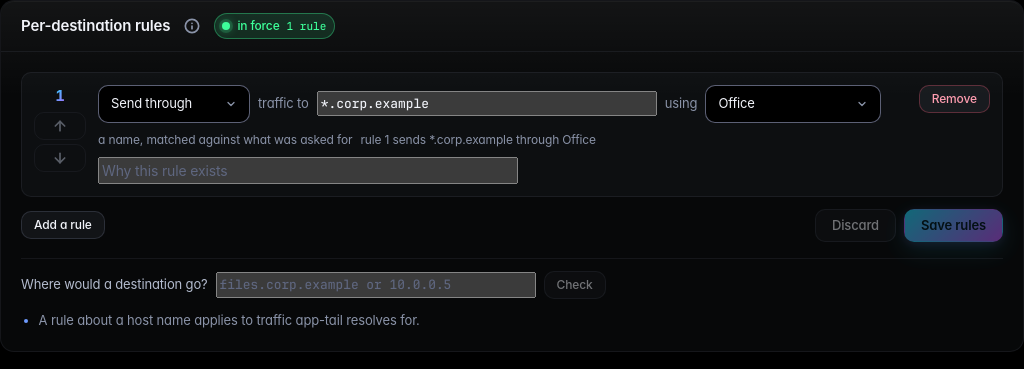
Test: writing the rules › offers nothing to save until a rule is edited
Expected: the button "Save rules" is disabled, [904,208,1003,242]
Type "*.corp.test" into the field named "Rule 1: destination" at (487,104), box [317,91,657,116]
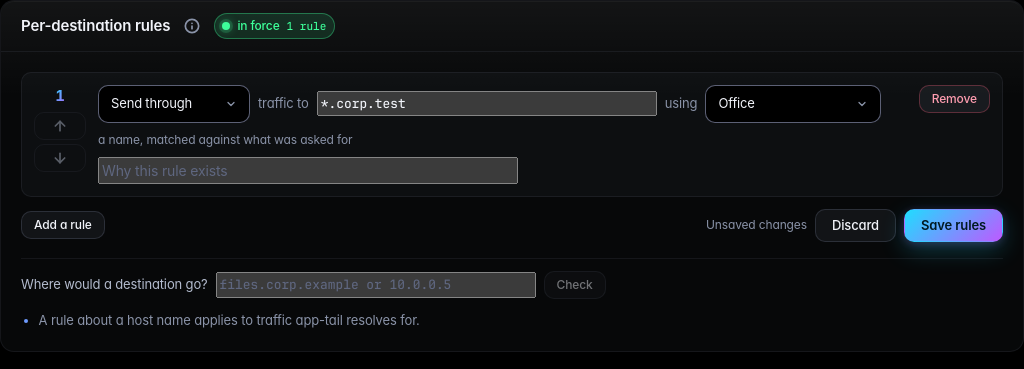
Expected: the button "Save rules" is enabled, [904,208,1003,242]
